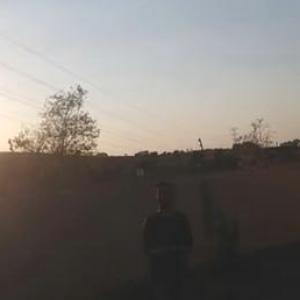follow: (138, 172, 202, 299)
